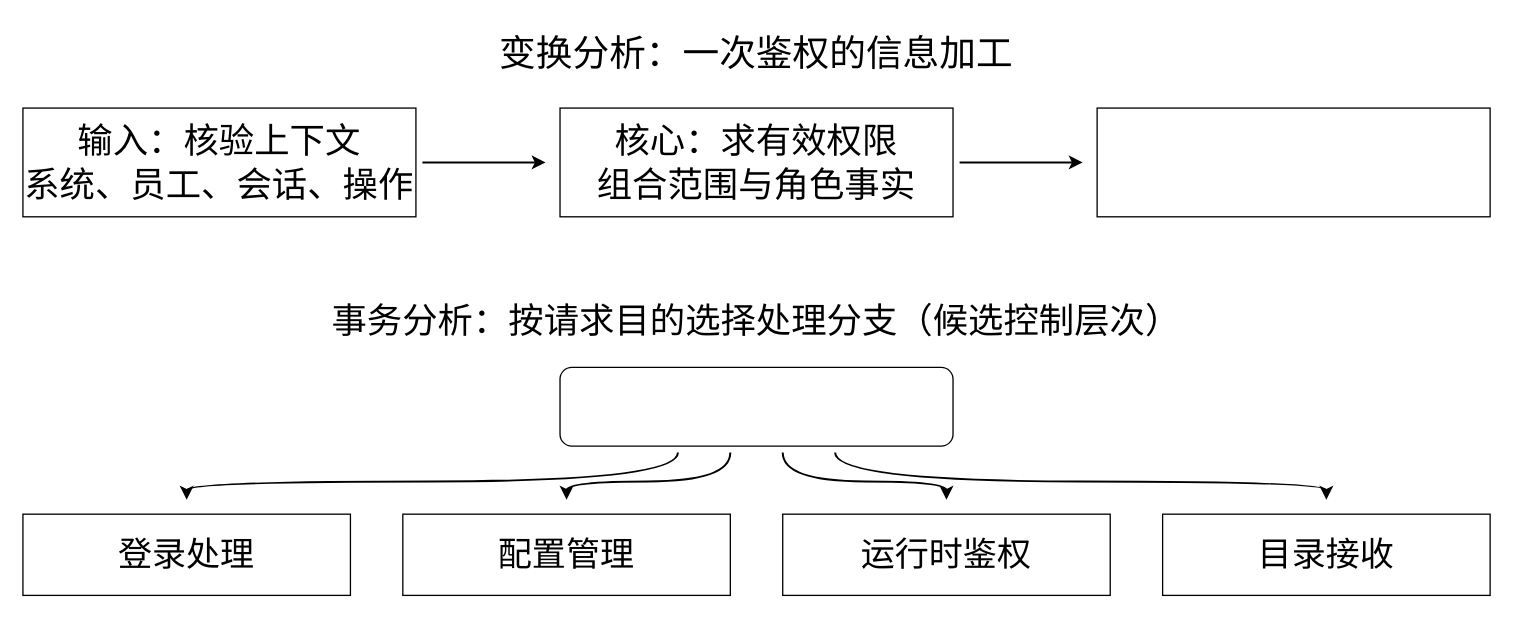
Image size: 1513x618. Some labels were removed from this diagram. The shapes that lost their labels are listed below. From the top down, each one's box as (x1, y1, x2, y2) in pixels, then its label:
(1096, 107, 1490, 217): 输出：形成判断 结论、原因与需记录事件
(559, 366, 953, 446): 请求处理协调
